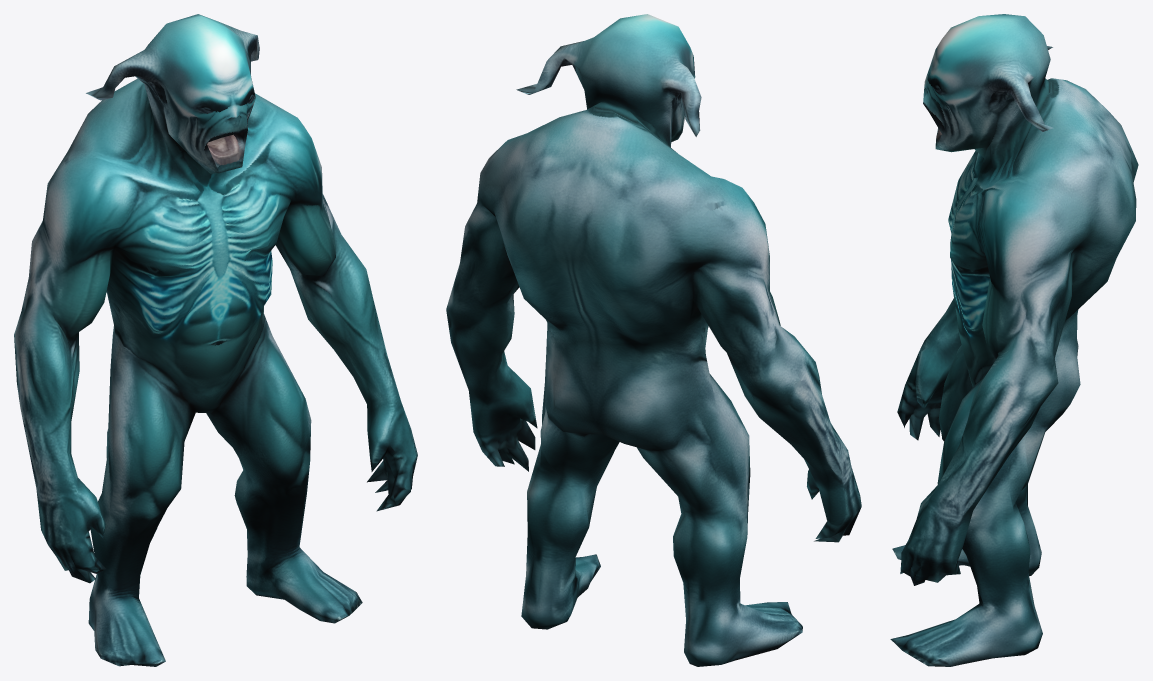
The model's file is warden_single_1500.glb.
3 renders of one model, left to right at view 1: azimuth 30°, elevation 25°; view 2: azimuth 150°, elevation 25°; view 3: azimuth 270°, elevation 25°, orthographic. The views are drawn at different scales.
Bounding box in the file's own units: 0.5536 × 0.8671 × 0.3285.
Materials: 1 (1 with a texture image).
